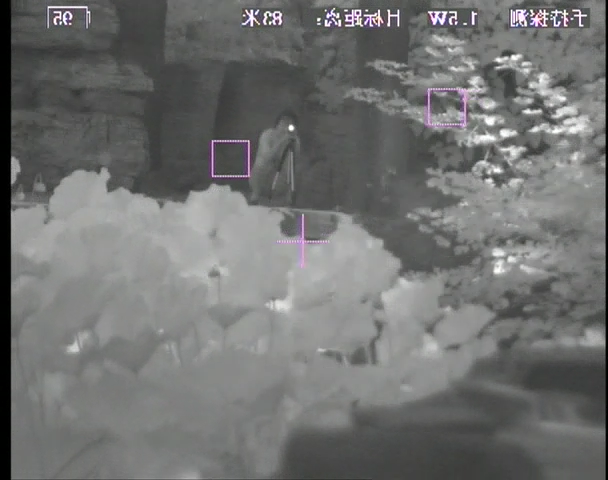my: (287, 123, 295, 134)
